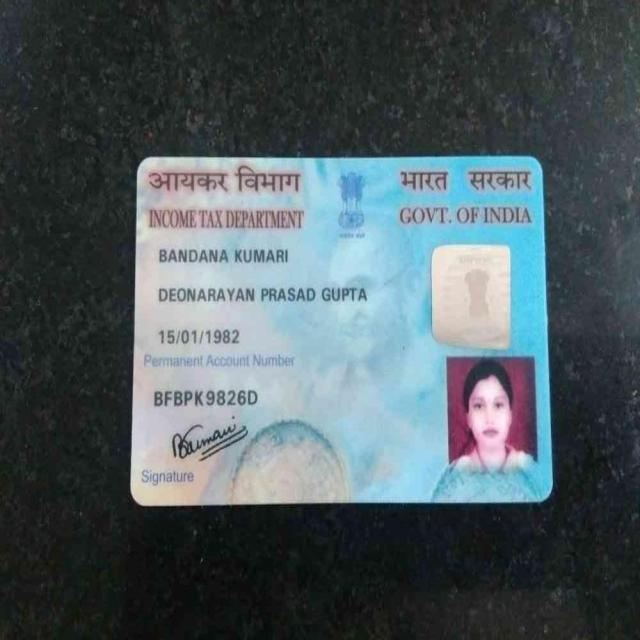pan_card: (133, 157, 550, 506)
